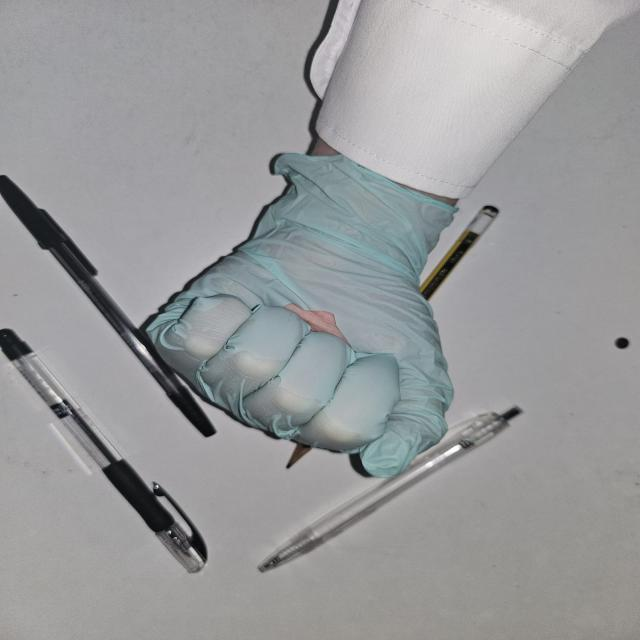gloves_damaged: (140, 150, 456, 483)
